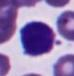L: (20, 20, 55, 56)
